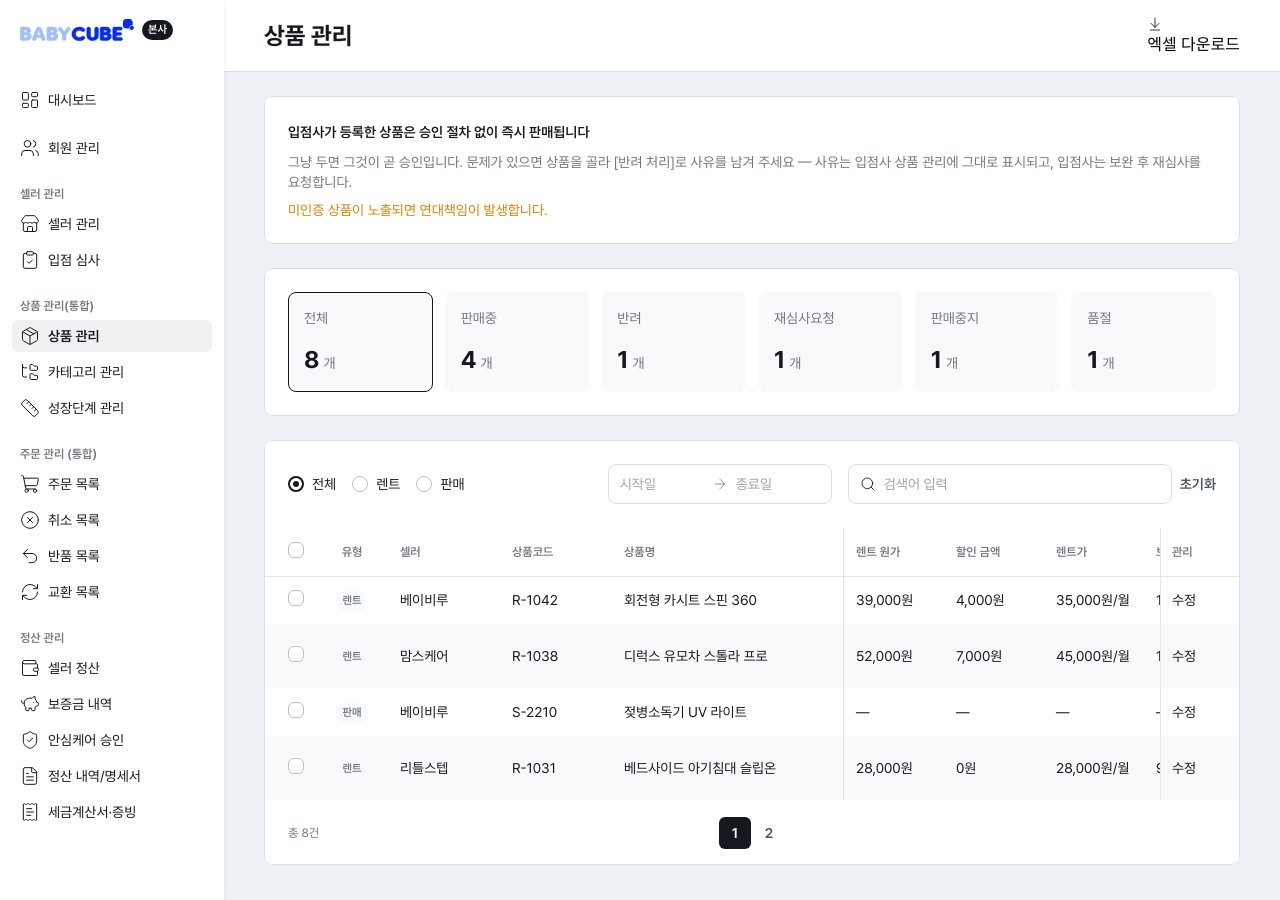
it: ProductListPage › 행 선택과 일괄 처리 › 행 체크박스를 눌러도 미리보기 모달은 열리지 않는다
This screenshot has width=1280, height=900.
Click the checkbox named "회전형 카시트 스핀 360 선택" at (296, 598), box top-left (288, 590), bottom-right (304, 606)
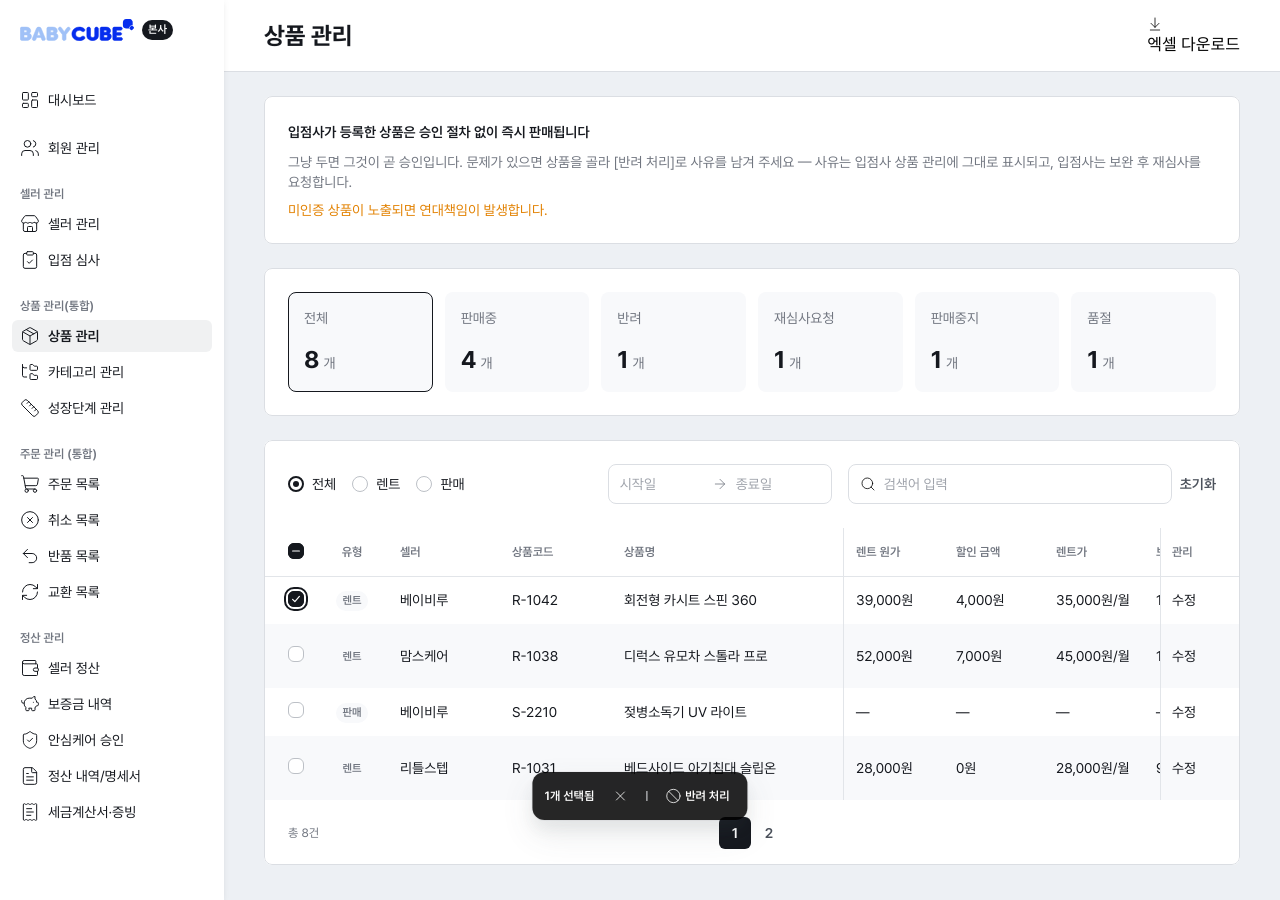
Expected: the text "1개 선택됨" is shown, top-left (544, 788), bottom-right (594, 804)
